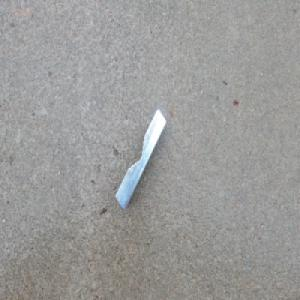ClampPart: (113, 108, 165, 211)
